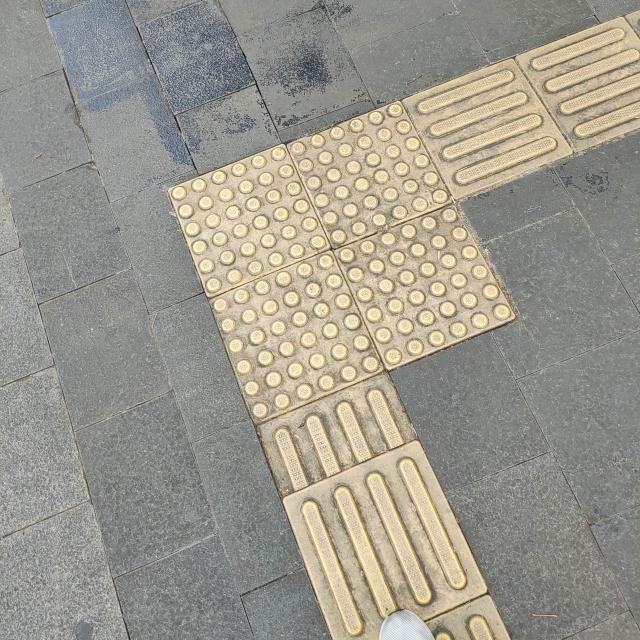kanan: (86, 28, 640, 454)
